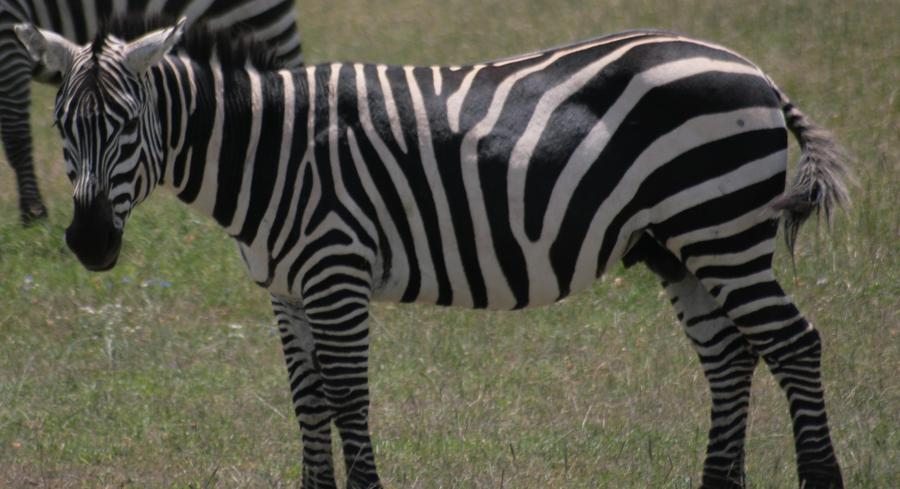zebra_plains: (251, 47, 790, 259)
